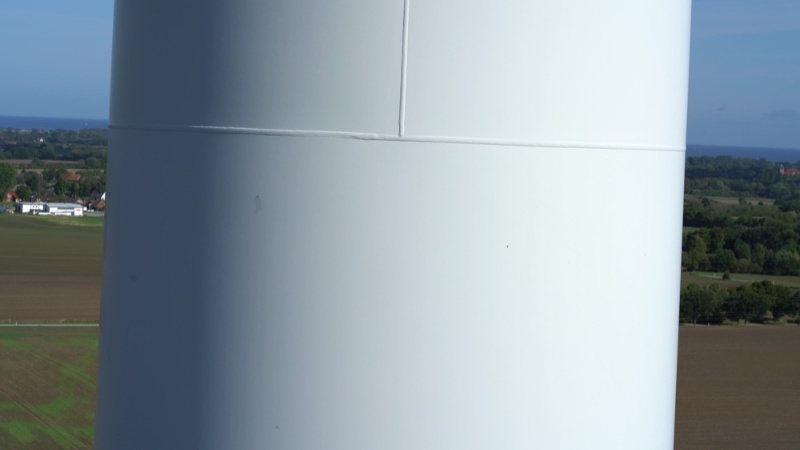weldseam: (105, 116, 690, 160), (390, 1, 414, 152)
